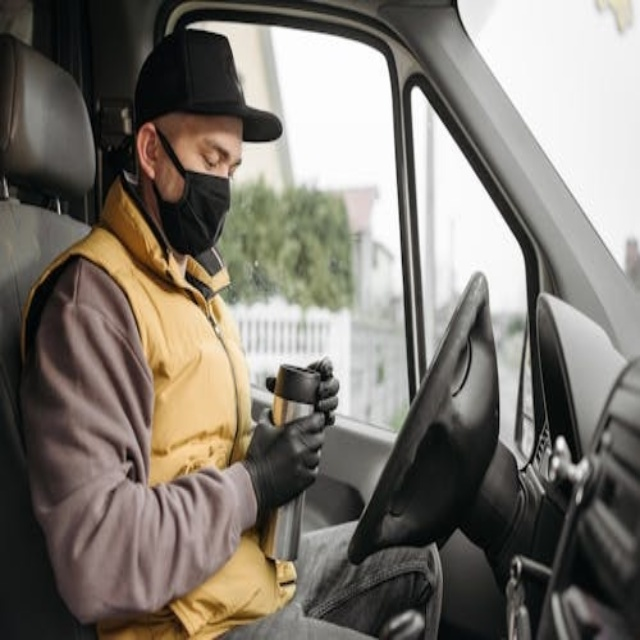Guantes: (242, 410, 328, 516), (285, 355, 340, 424)
Mascara: (148, 128, 233, 259)
Sin_gafas: (178, 126, 247, 176)
